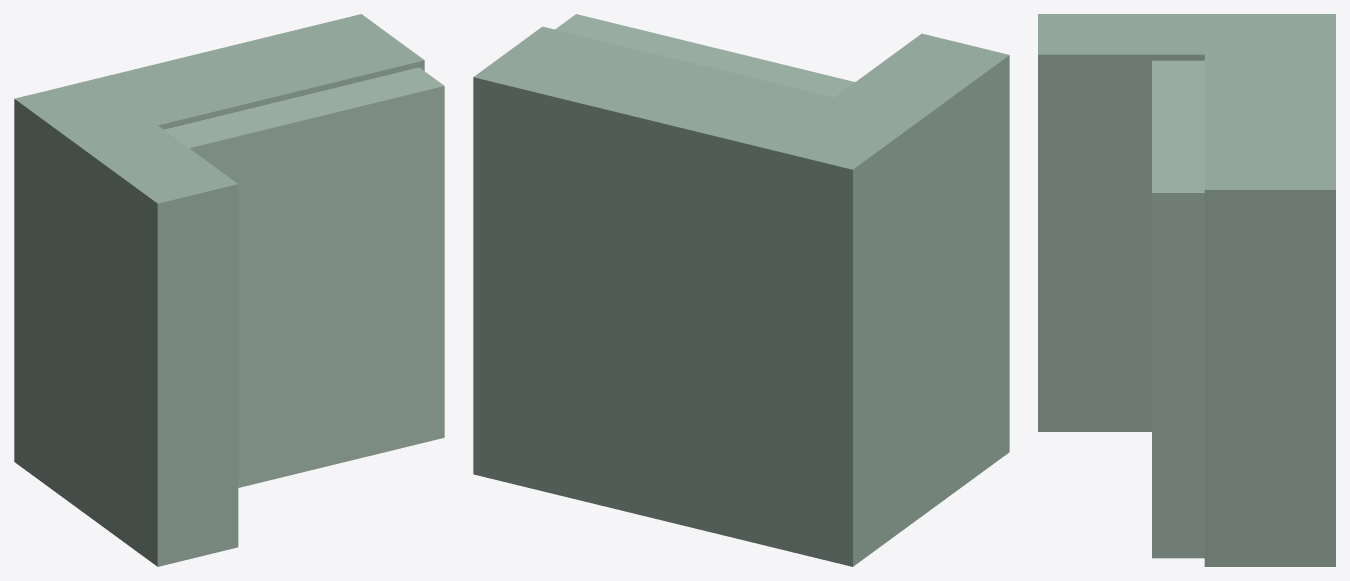
3 views of the same model, side by side, from view 1: azimuth 30°, elevation 25°; view 2: azimuth 150°, elevation 25°; view 3: azimuth 270°, elevation 25° (orthographic). The views are drawn at different scales.
Visible parts, largest first — view 1: part_1, part_0, part_2; view 2: part_2, part_0, part_1; view 3: part_2, part_0, part_1.
Boxes of the visible parts, <box> form: part_1: <box>164,67,444,487</box>; part_0: <box>77,125,238,566</box>; part_2: <box>14,14,424,507</box>; part_2: <box>473,26,921,566</box>; part_0: <box>834,33,1009,515</box>; part_1: <box>555,14,854,97</box>; part_2: <box>1204,14,1335,566</box>; part_0: <box>1038,14,1204,431</box>; part_1: <box>1152,60,1204,558</box>.
Size of the model in its own units: 0.95 by 0.95 by 0.68.
